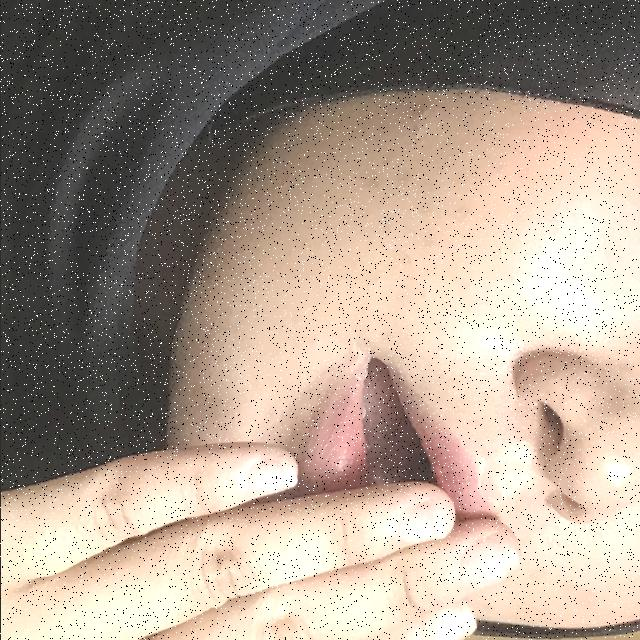ngantuk: (0, 280, 514, 640)
